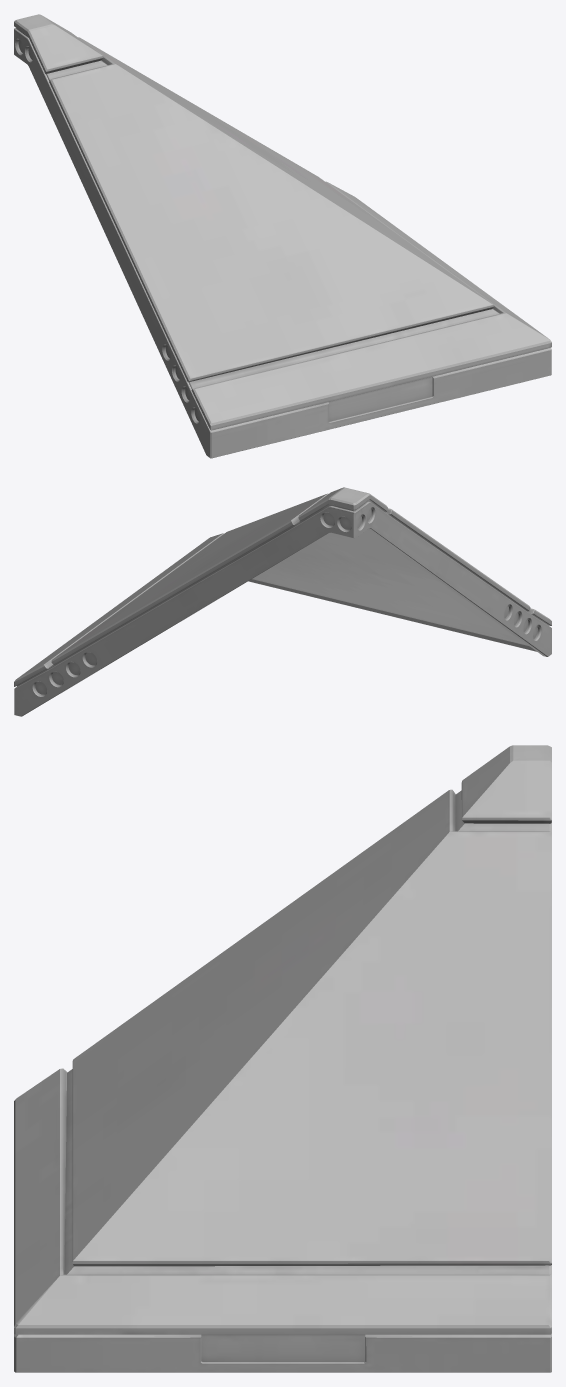
The model's file is SM_TriangleStairsCorner_SF_5bc907.glb.
3 views of the same model, one above another, from view 1: azimuth 30°, elevation 25°; view 2: azimuth 150°, elevation 25°; view 3: azimuth 270°, elevation 25° (orthographic). The views are drawn at different scales.
Size of the model in its own units: 4.01 by 3.3 by 4.01.
1 material, 1 textured.
